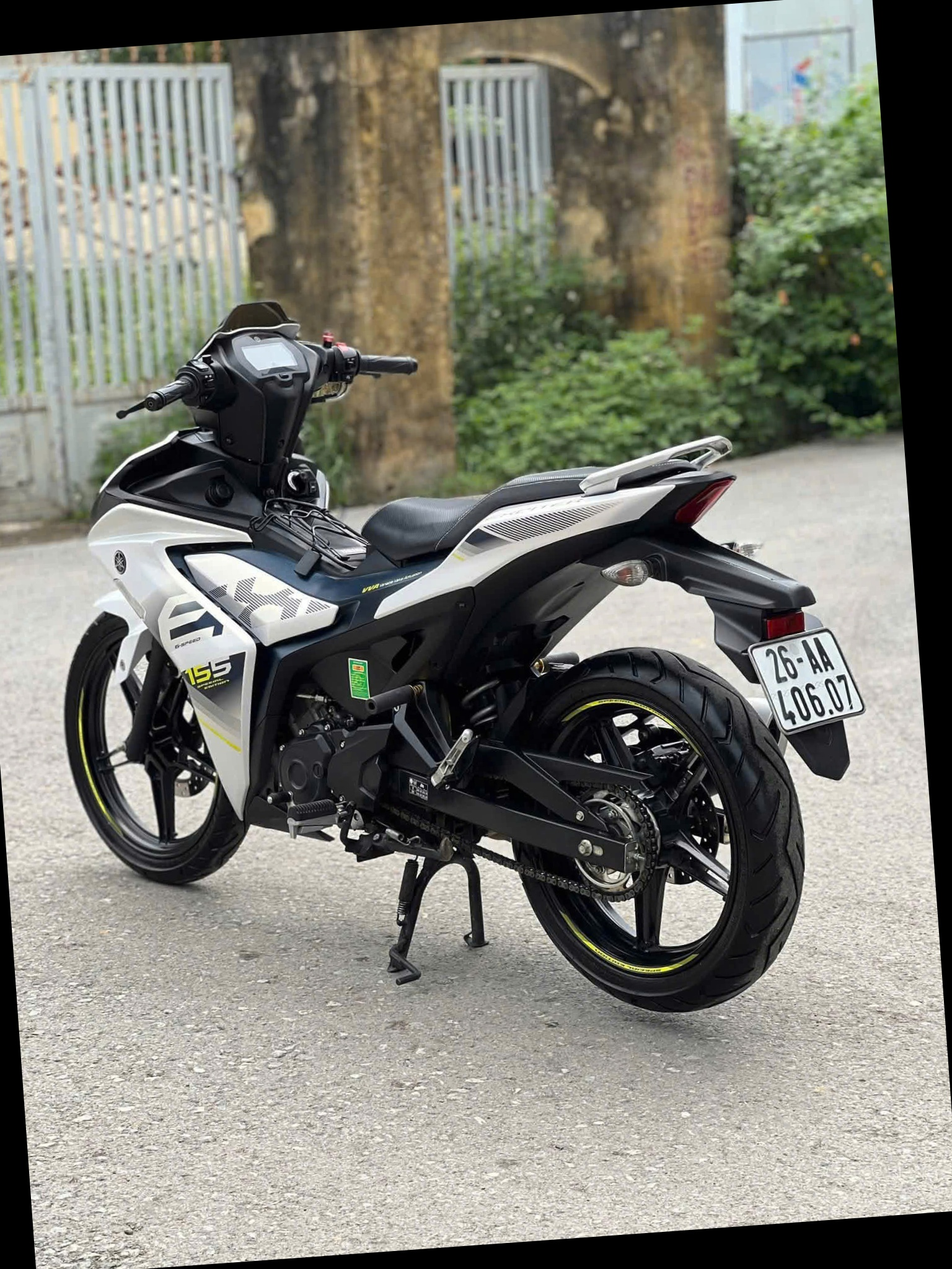Bien-so: (793, 699, 910, 805)
